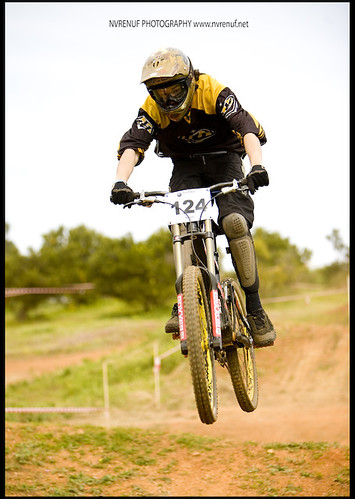helmet: (133, 48, 210, 131)
